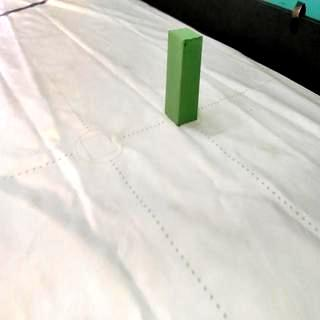greenbox: (164, 27, 203, 127)
